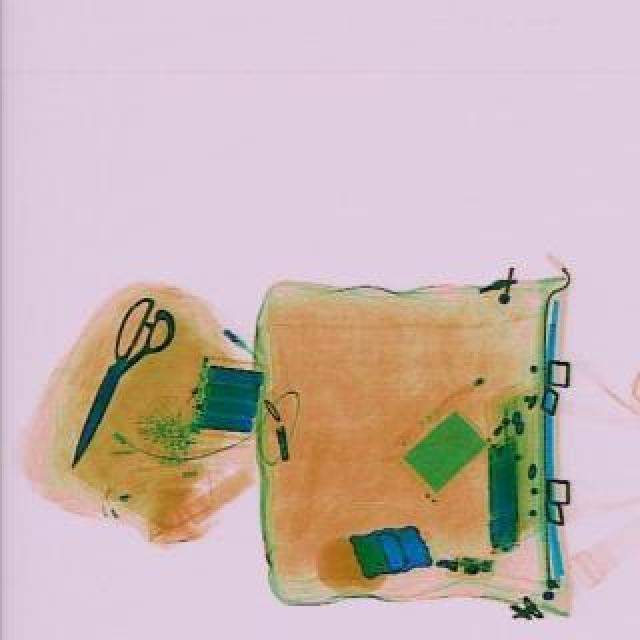pliers: (44, 292, 184, 478)
